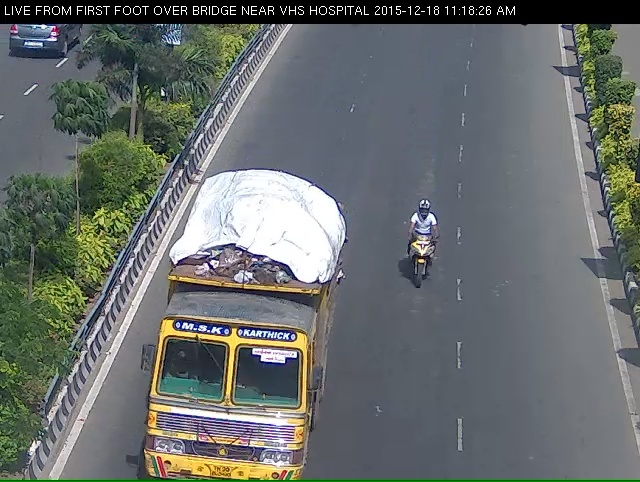Bus: (147, 197, 323, 482)
Person: (398, 219, 446, 319)
